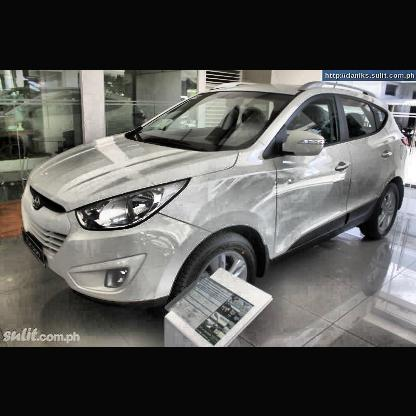Hyundai Tucson SUV 2012: (21, 81, 412, 303)
